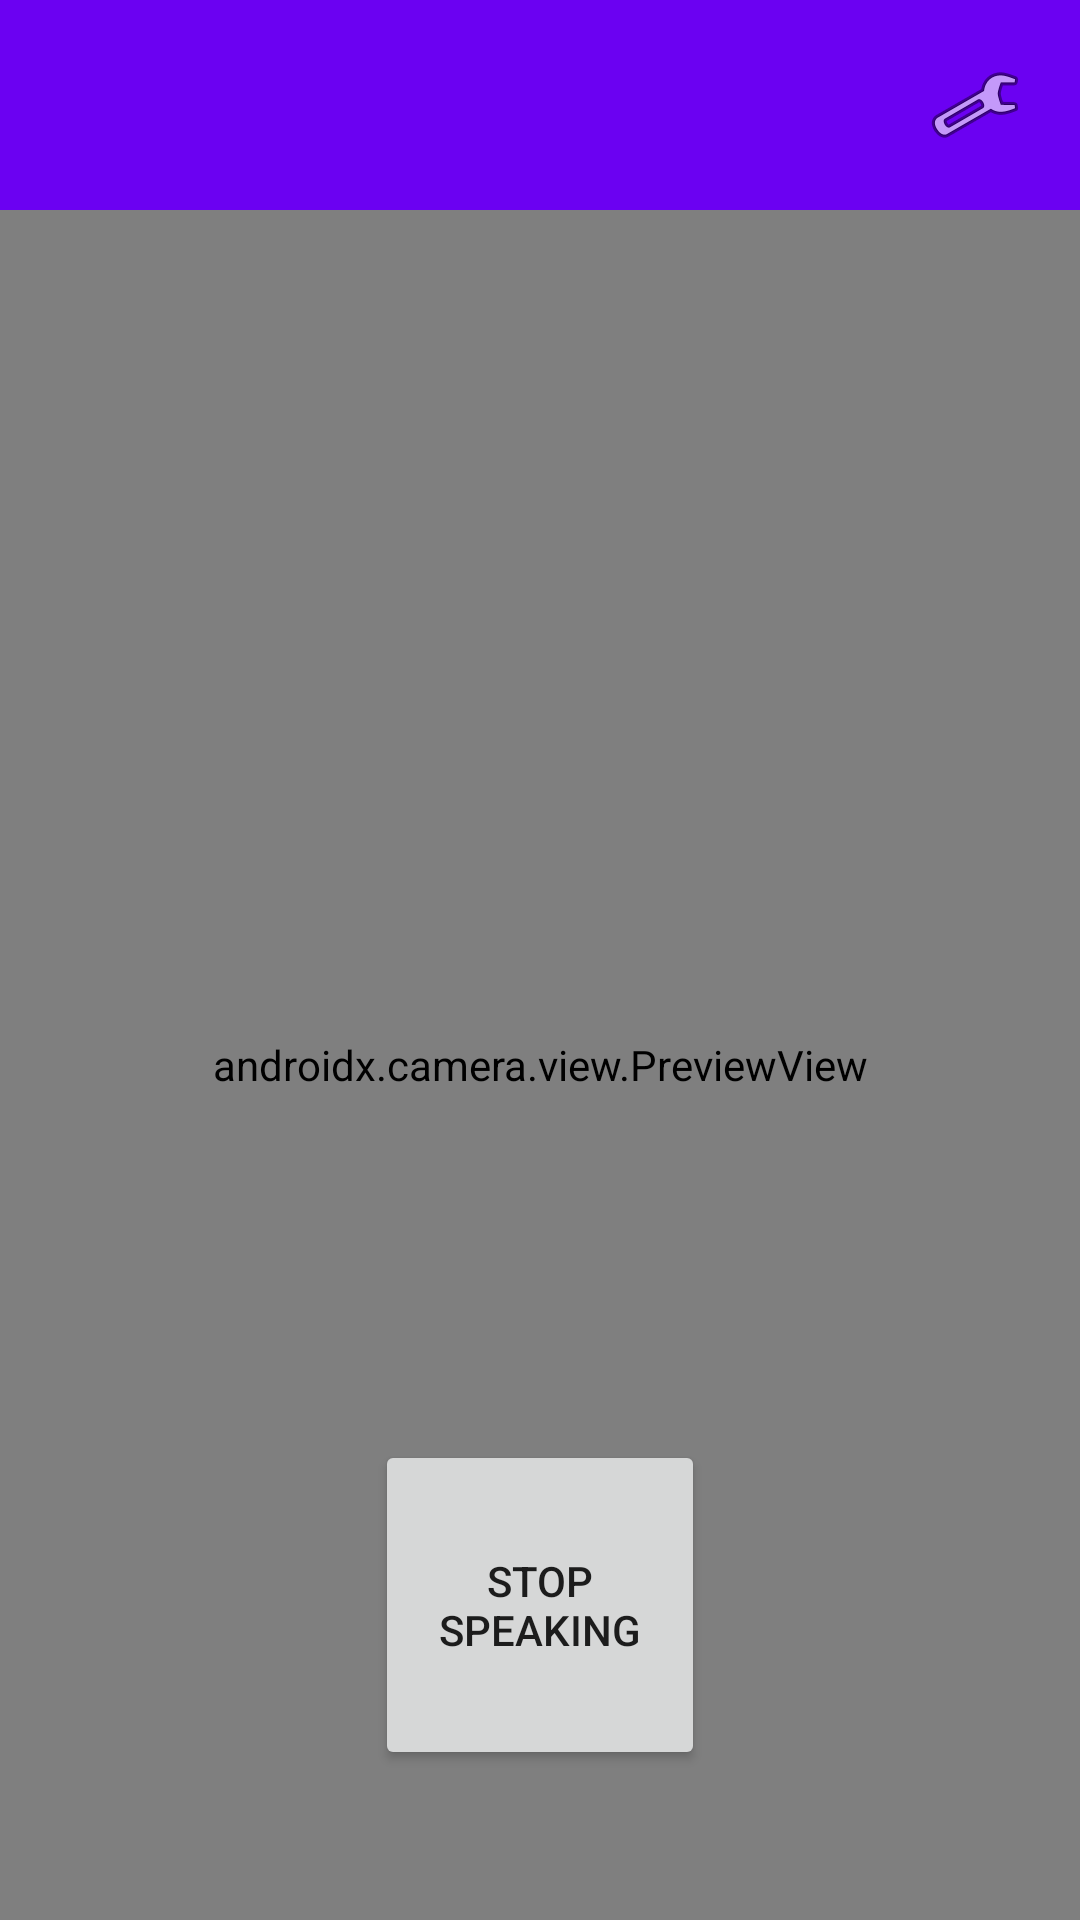

Where icons sit on this 1080*1920 app screen, as (x1, y1, x2, y2):
Settings: (932, 72, 1018, 138)
